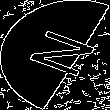N_SE: (13, 26, 97, 84)
